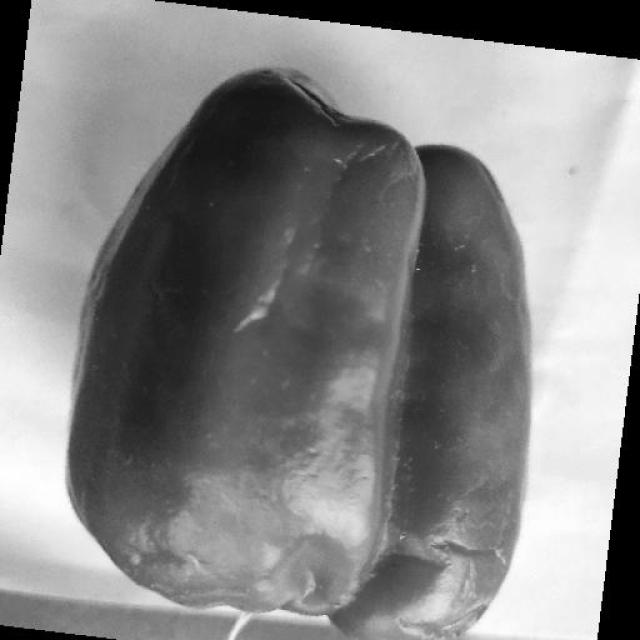Stale_Capsicum: (101, 90, 493, 621)
